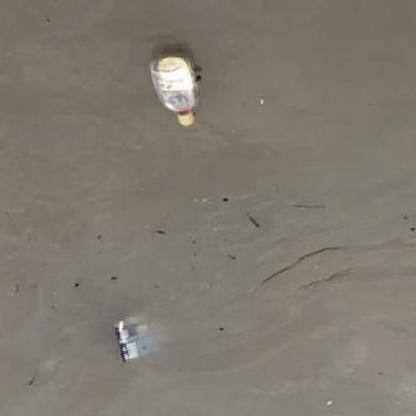plastic bottle: (149, 54, 202, 126)
